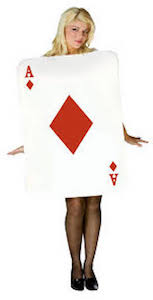AceOfDiamonds: (13, 48, 132, 203)
